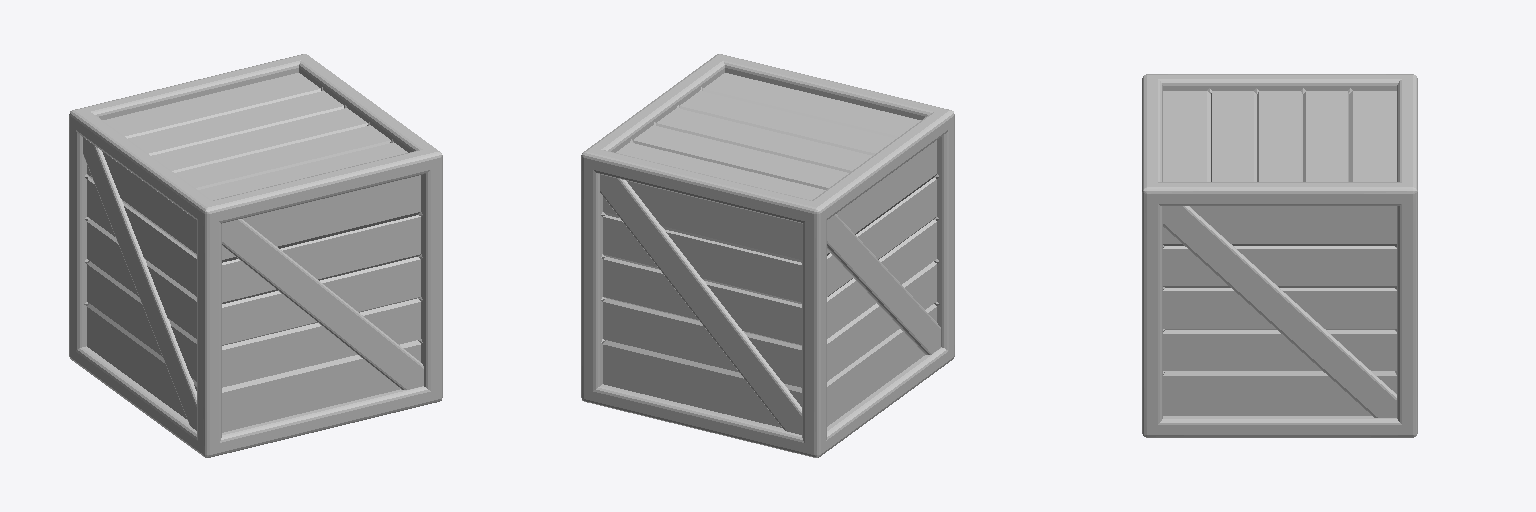
Rendered from crate.obj.
3 views of the same model, side by side, from view 1: azimuth 30°, elevation 25°; view 2: azimuth 150°, elevation 25°; view 3: azimuth 270°, elevation 25° (orthographic).
Visible parts, largest first — view 1: Crate_Cube.005; view 2: Crate_Cube.005; view 3: Crate_Cube.005.
Boxes of the visible parts, x1=… form: Crate_Cube.005: x1=69, y1=54, x2=442, y2=457; Crate_Cube.005: x1=581, y1=54, x2=954, y2=457; Crate_Cube.005: x1=1142, y1=74, x2=1417, y2=437.
Bounding box in the file's own units: 8 × 8 × 8.